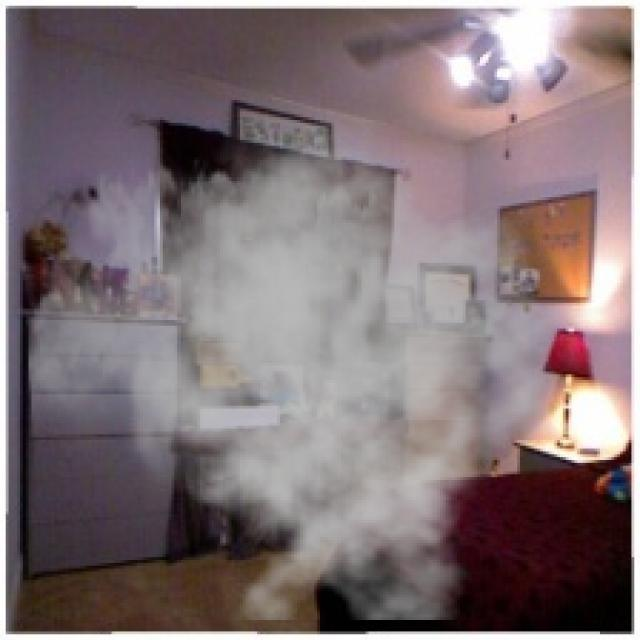Smoke: (26, 94, 572, 620)
